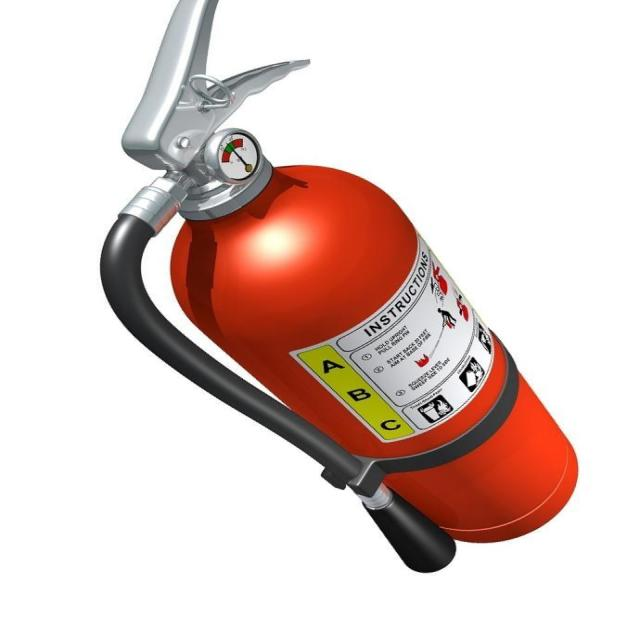fire_extinguisher: (89, 0, 585, 577)
